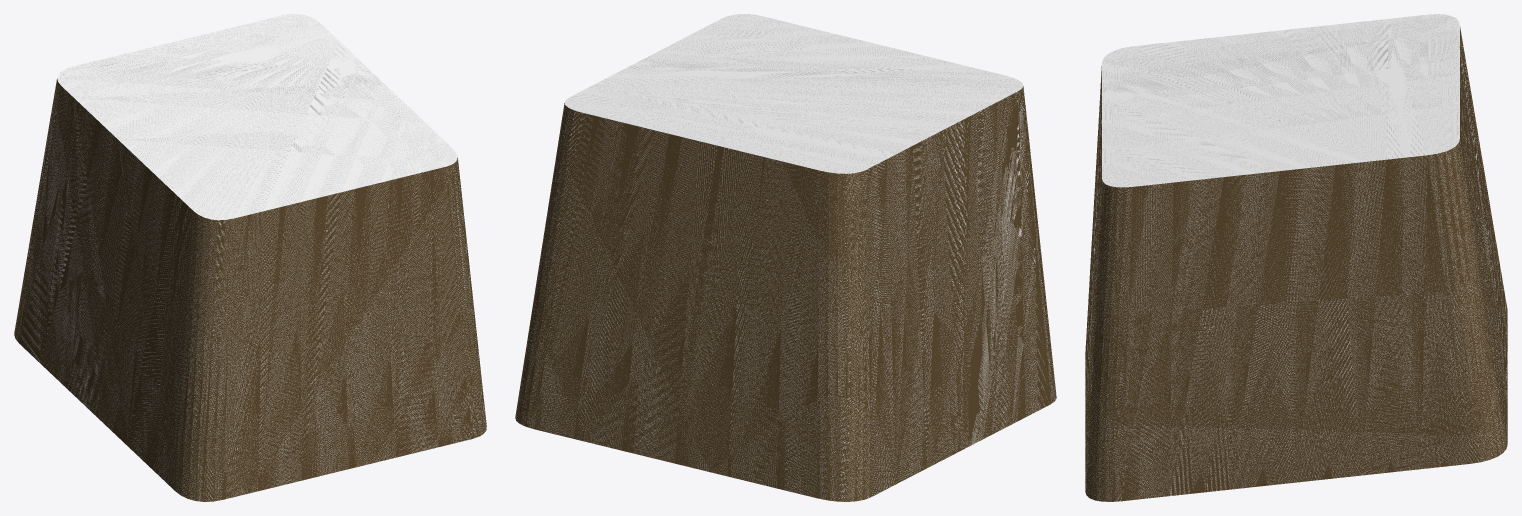
Rendered from original-69.obj.
3 renders of one model, left to right at view 1: azimuth 30°, elevation 25°; view 2: azimuth 150°, elevation 25°; view 3: azimuth 270°, elevation 25°, orthographic. The views are drawn at different scales.
Visible parts, largest first — view 1: mesh69/mesh69-geometry#mesh69-geometry; view 2: mesh69/mesh69-geometry#mesh69-geometry; view 3: mesh69/mesh69-geometry#mesh69-geometry.
Part boxes in pixels (x1=…): mesh69/mesh69-geometry#mesh69-geometry: x1=14, y1=14, x2=486, y2=501; mesh69/mesh69-geometry#mesh69-geometry: x1=515, y1=14, x2=1056, y2=501; mesh69/mesh69-geometry#mesh69-geometry: x1=1085, y1=14, x2=1507, y2=501.
Bounding box in the file's own units: 0.0633 × 0.0606 × 0.0681.
